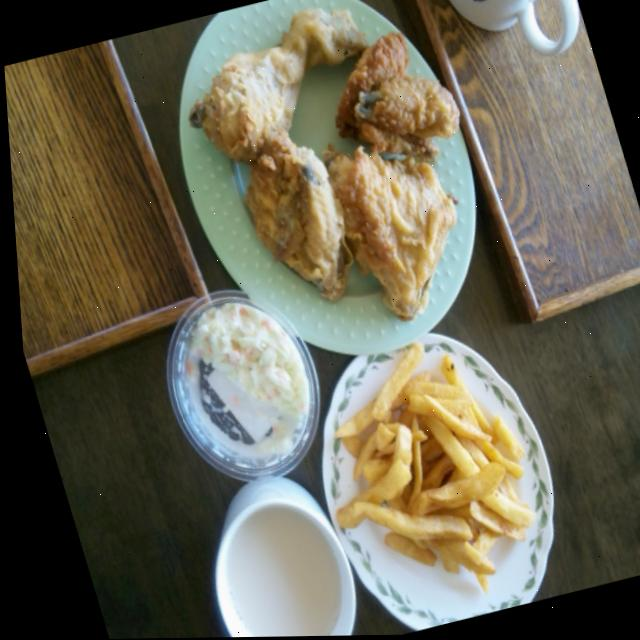炸货点心: (426, 371, 640, 613)
鸡肉料理 含炸鸡: (287, 0, 598, 421)
